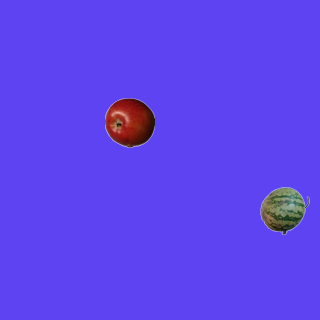Apple Braeburn: (104, 97, 154, 147)
Watermelon: (259, 185, 309, 235)
